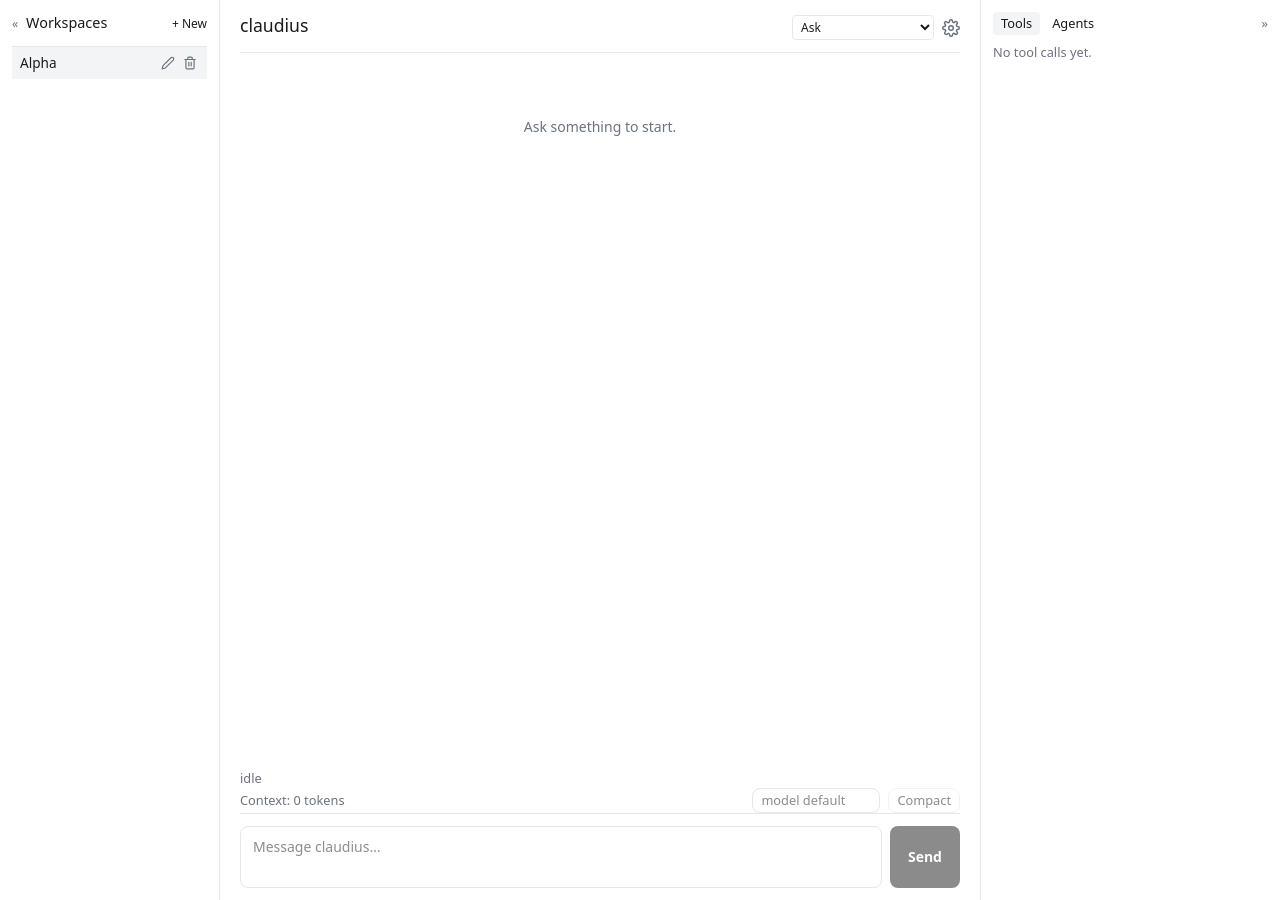
App › falls back to no active workspace after the selected one is deleted
Step 1. Click the button named "Delete" → click(190, 63), box [181, 54, 199, 72]
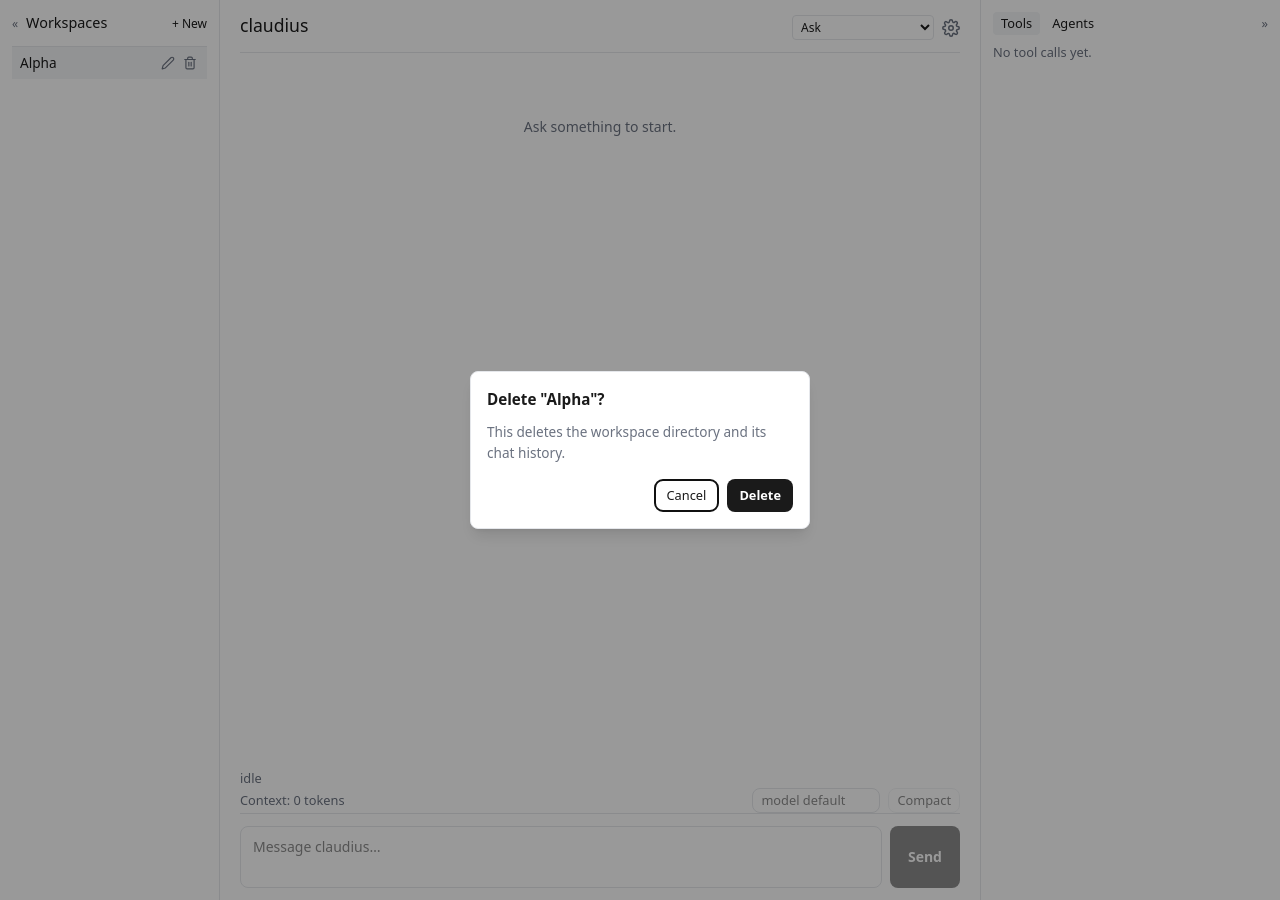
Step 2. Click the button "Delete" → click(760, 496), box [727, 479, 793, 512]
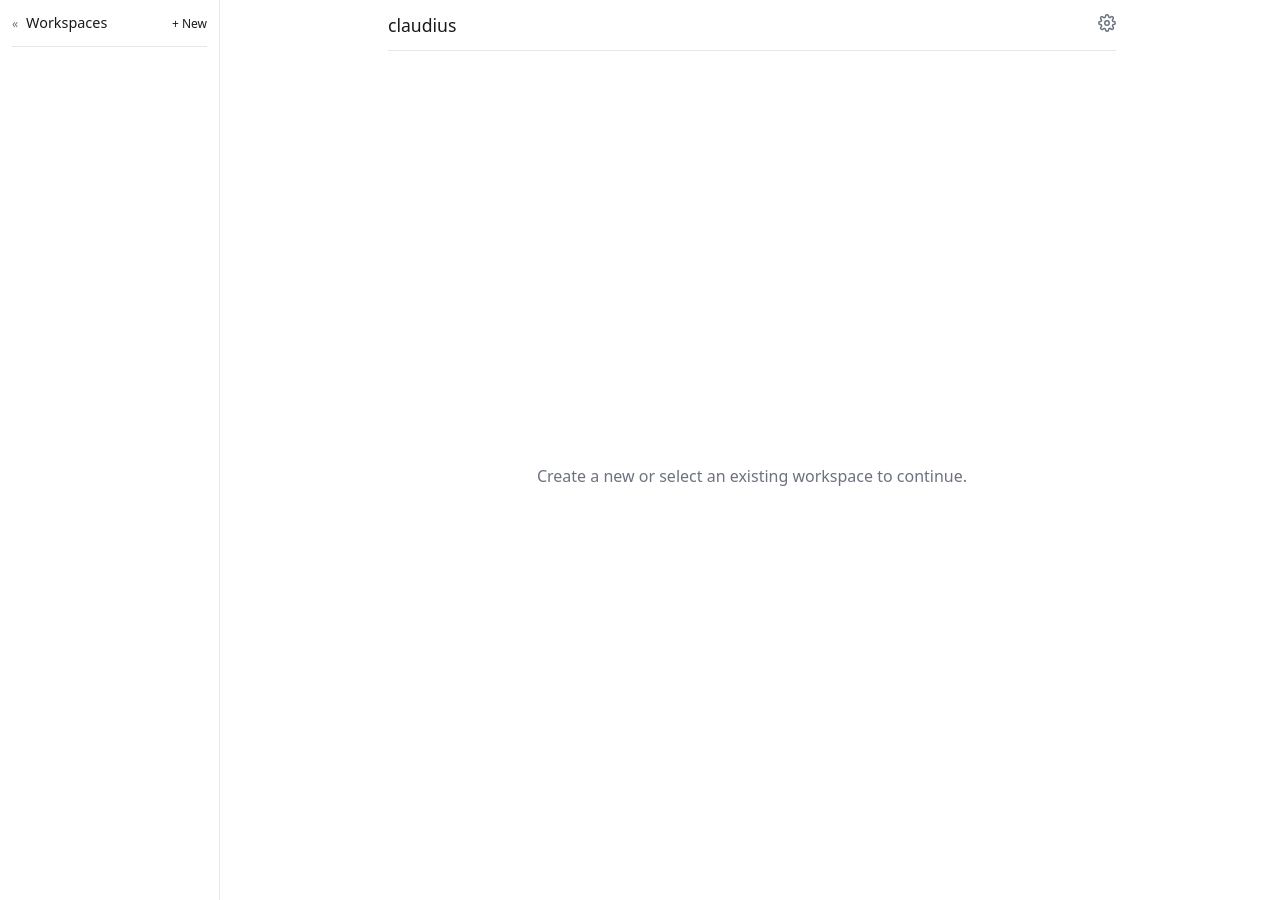
Expected: the text "Create a new or select an existing workspace to continue." is shown, [505, 464, 999, 488]
